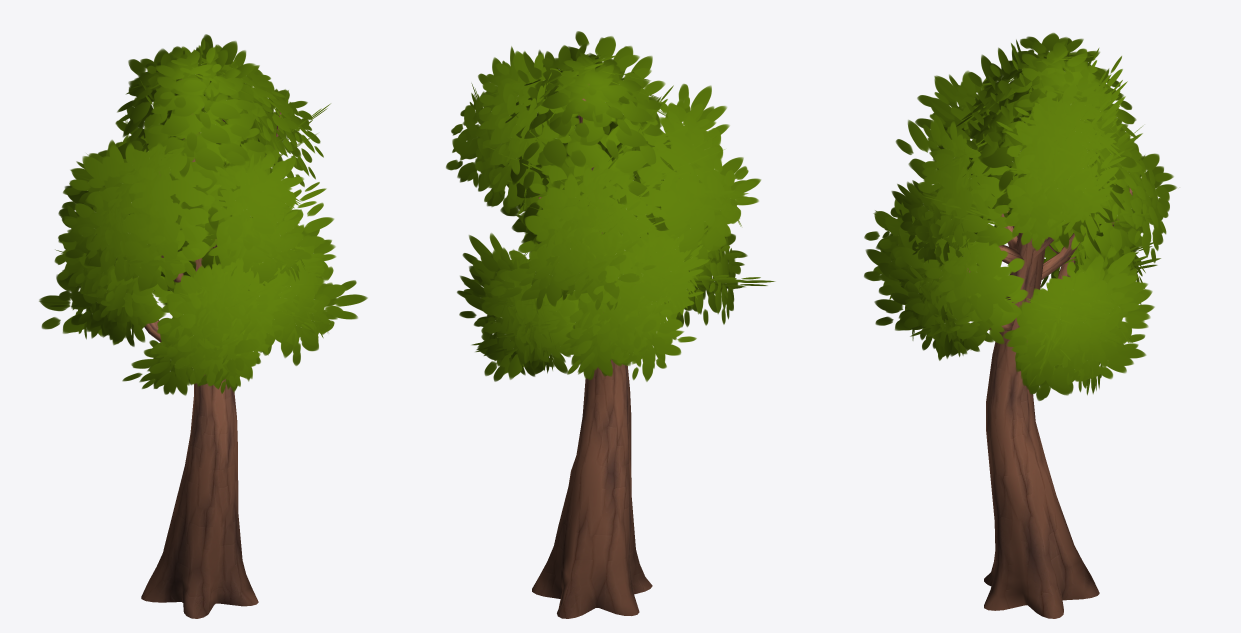
File: tree.glb
3 views of the same model, side by side, from view 1: azimuth 30°, elevation 25°; view 2: azimuth 150°, elevation 25°; view 3: azimuth 270°, elevation 25° (orthographic). The views are drawn at different scales.
Visible parts, largest first — view 1: CommonTree_1; view 2: CommonTree_1; view 3: CommonTree_1.
Boxes of the visible parts, left/top/right/bottom form: CommonTree_1: left=39, top=34, right=367, bottom=618; CommonTree_1: left=446, top=31, right=775, bottom=618; CommonTree_1: left=864, top=33, right=1176, bottom=618.
Bounding box in the file's own units: 1.19 × 2 × 1.26.
Materials: 2 (2 with a texture image).
